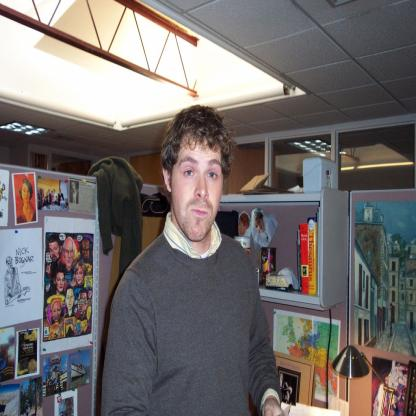book: (308, 217, 317, 296), (299, 222, 309, 293), (295, 229, 302, 292)
